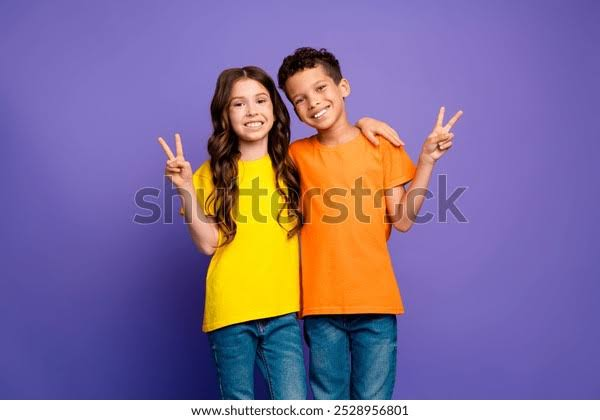peace_sign: (420, 104, 467, 160), (155, 132, 194, 187)
